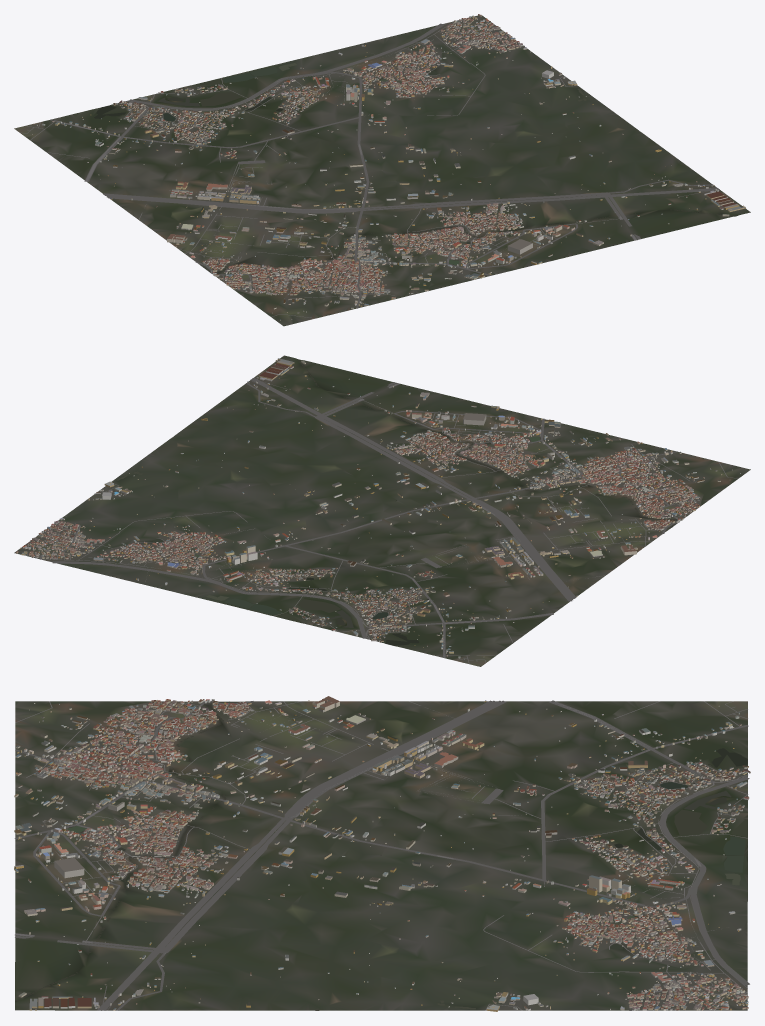
3 renders of one model, top to bottom at view 1: azimuth 30°, elevation 25°; view 2: azimuth 150°, elevation 25°; view 3: azimuth 270°, elevation 25°, orthographic. The views are drawn at different scales.
Parts seen in each view (by area): view 1: ground, buildings, roads, water; view 2: ground, buildings, roads, water; view 3: ground, buildings, roads, water.
Boxes of the visible parts, box(x1,y1,x2,y2) form: ground: box(14, 15, 750, 326); buildings: box(32, 14, 745, 320); roads: box(19, 18, 719, 318); water: box(94, 63, 735, 272); ground: box(14, 355, 750, 666); buildings: box(15, 358, 740, 659); roads: box(27, 377, 737, 664); water: box(117, 359, 675, 645); ground: box(15, 701, 747, 1010); buildings: box(14, 696, 750, 1011); roads: box(14, 700, 749, 1010); water: box(16, 701, 747, 1009).
Size of the model in its own units: 2819 by 60.77 by 2820.
